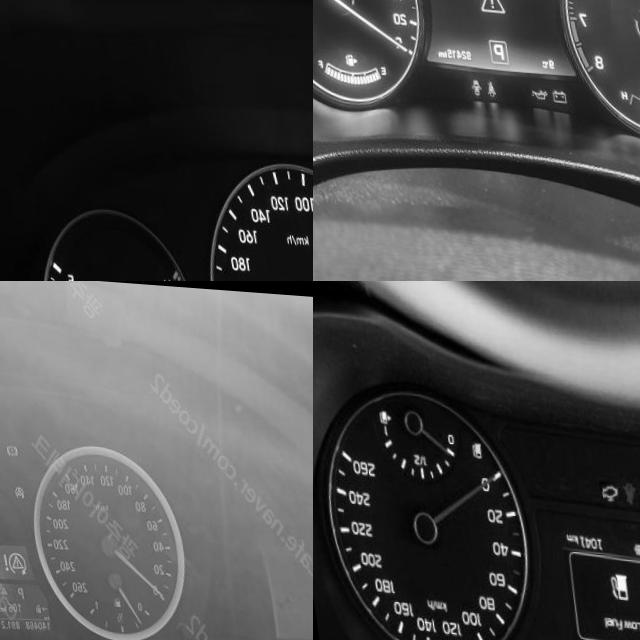Central Warning lamp: (468, 0, 498, 10)
Doors: (459, 74, 471, 91)
